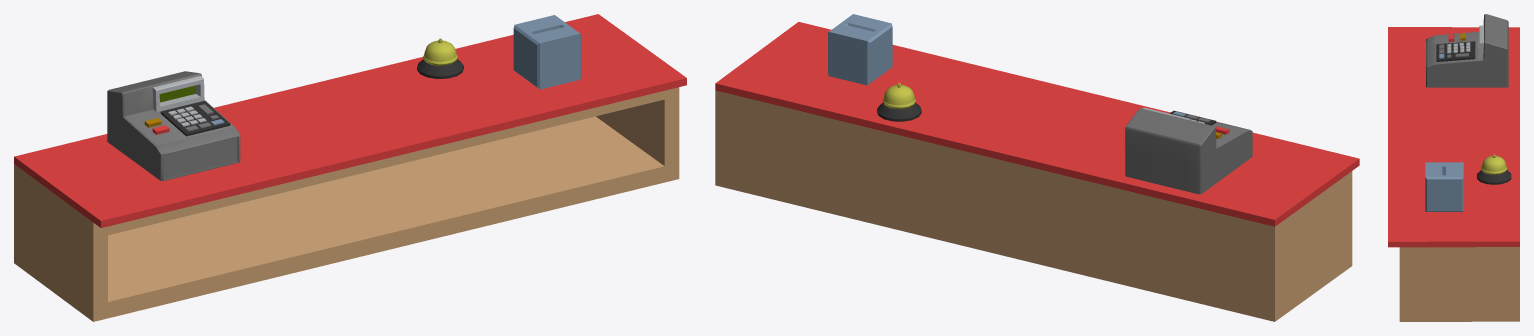
File: Obj_Mostrador_con_Objetos.fbx
The picture shows the model from 3 angles, left to right: view 1: azimuth 30°, elevation 25°; view 2: azimuth 150°, elevation 25°; view 3: azimuth 270°, elevation 25°; orthographic projection. The views are drawn at different scales.
Visible parts, largest first — view 1: Mostrador, Caja_Registradora, Propinas, Caja_Registradora_Puerta, Campana_Campana; view 2: Mostrador, Caja_Registradora, Propinas, Campana_Campana; view 3: Mostrador, Caja_Registradora, Propinas, Campana_Campana.
Boxes of the visible parts, x1=… form: Mostrador: x1=14, y1=14, x2=686, y2=321; Caja_Registradora: x1=107, y1=71, x2=240, y2=180; Propinas: x1=513, y1=15, x2=580, y2=89; Caja_Registradora_Puerta: x1=164, y1=138, x2=237, y2=178; Campana_Campana: x1=417, y1=38, x2=463, y2=78; Mostrador: x1=715, y1=22, x2=1359, y2=321; Caja_Registradora: x1=1125, y1=107, x2=1252, y2=194; Propinas: x1=828, y1=14, x2=892, y2=85; Campana_Campana: x1=877, y1=82, x2=921, y2=121; Mostrador: x1=1388, y1=27, x2=1519, y2=321; Caja_Registradora: x1=1426, y1=14, x2=1508, y2=87; Propinas: x1=1425, y1=162, x2=1463, y2=211; Campana_Campana: x1=1477, y1=154, x2=1511, y2=184.
Bounding box in the file's own units: 35.53 × 9.65 × 9.21.
